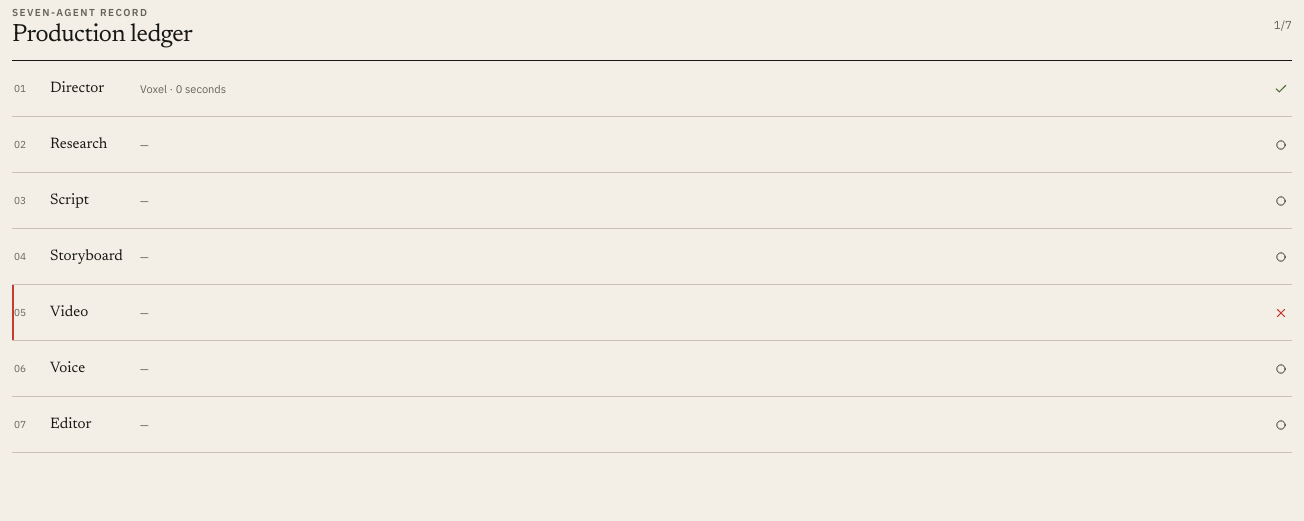
Test case: ProductionLedger › expands persisted output details
This screenshot has width=1304, height=521.
Click the button "01 Director Voxel · 0 seconds" at (77, 88), box [12, 61, 1292, 116]
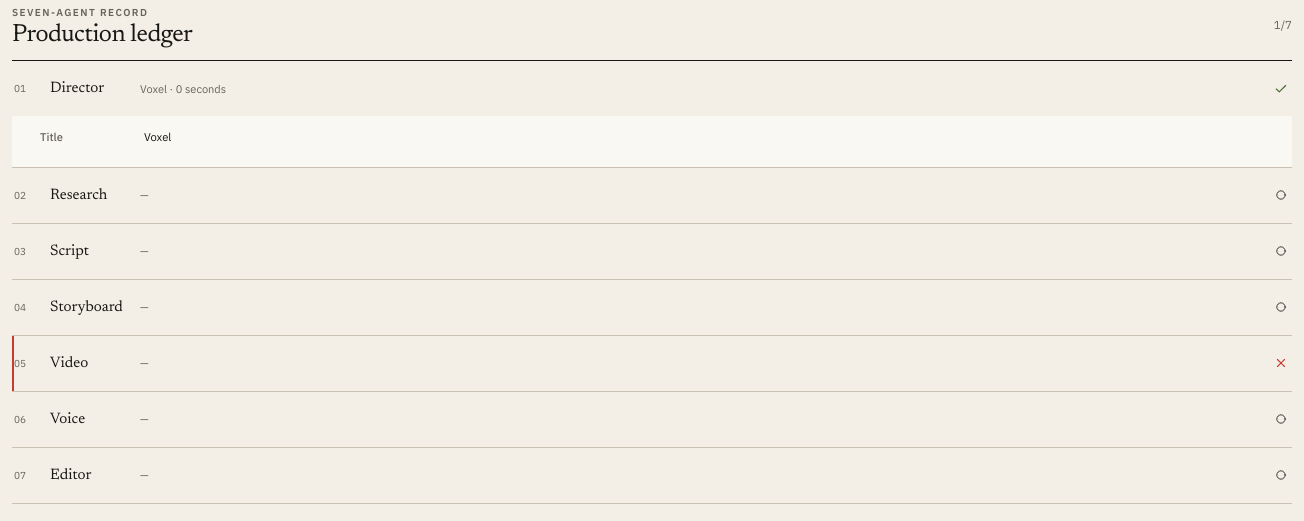
Now the text "Title" is shown, box [40, 130, 63, 144]
Now the text "Voxel" is shown, box [144, 130, 171, 144]
